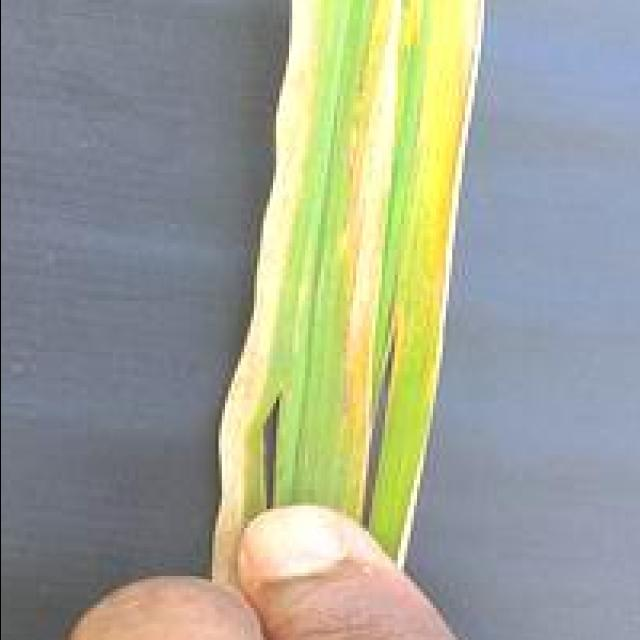Bacterial_Leaf_Blight: (240, 0, 464, 560)
